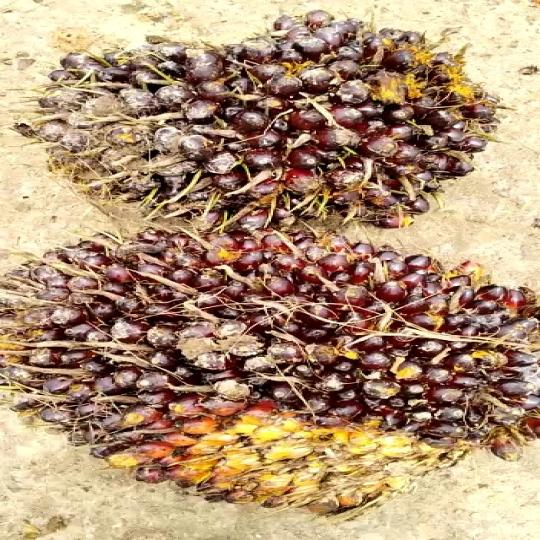kurang masak: (0, 231, 540, 505), (16, 12, 528, 234)
